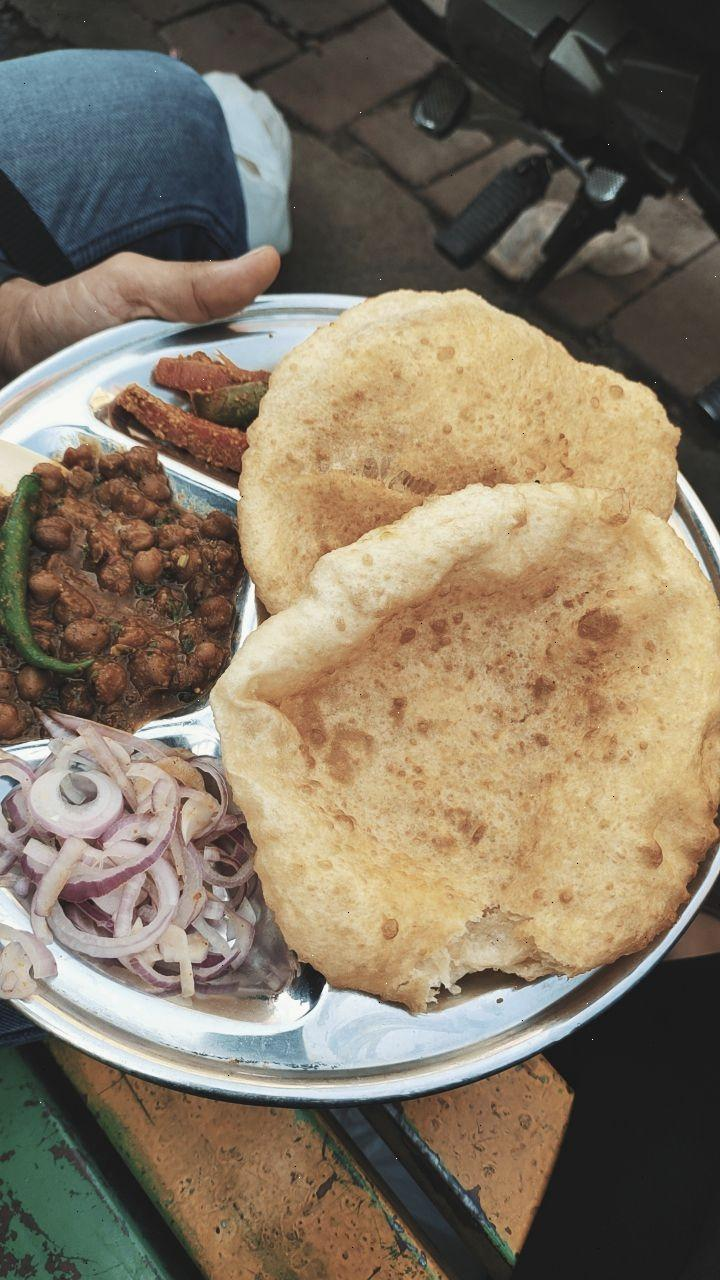chole: (13, 438, 234, 702)
puri: (267, 338, 650, 946)
salad: (17, 731, 266, 973)
